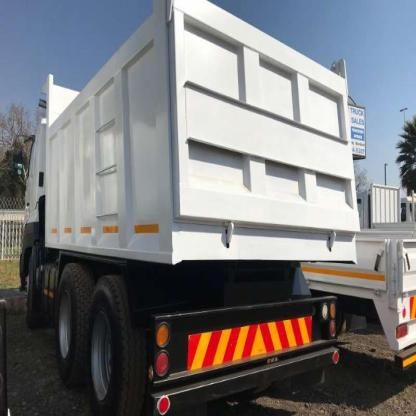dump_truck: (15, 0, 366, 415)
